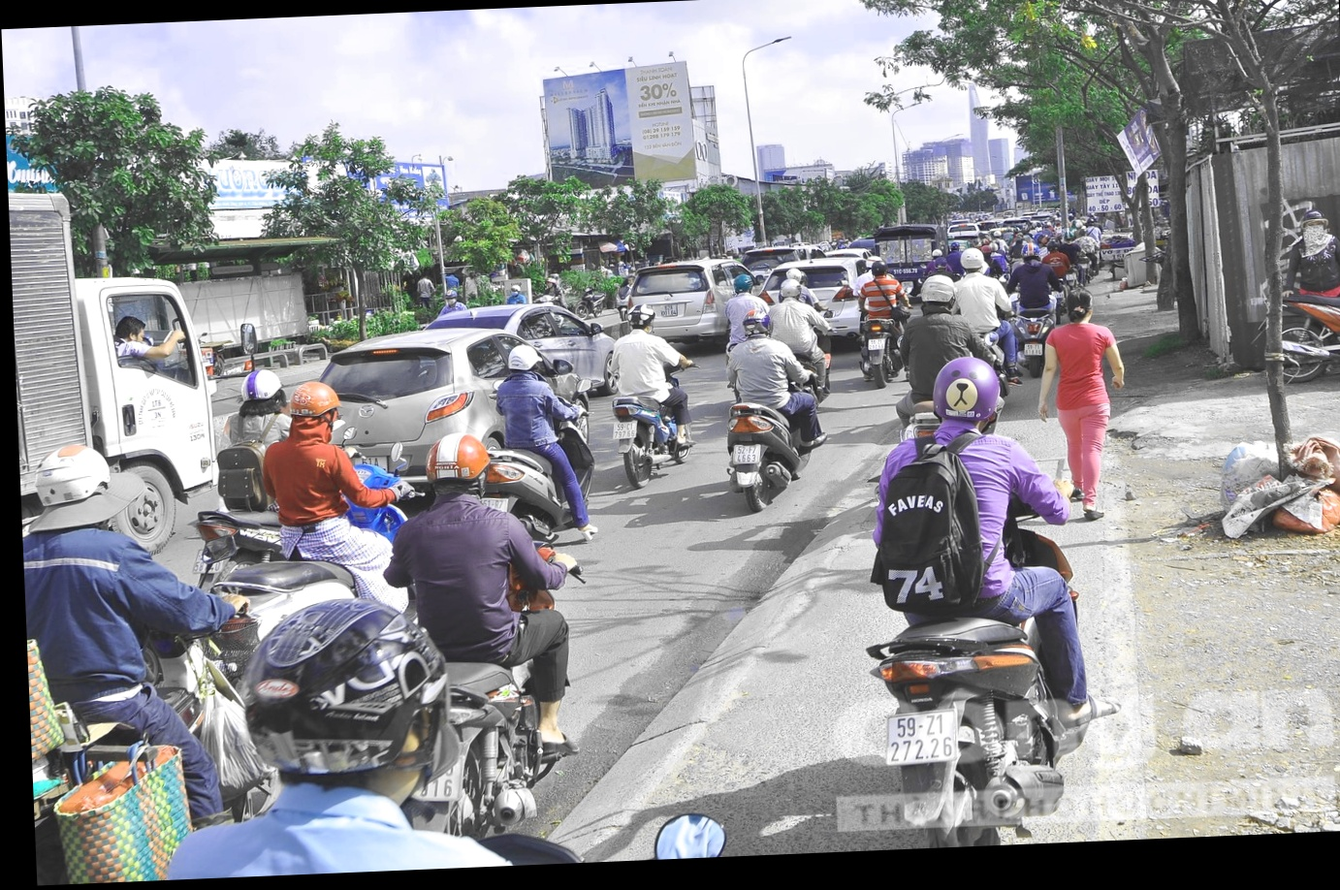Bien-so: (808, 737, 884, 798), (334, 721, 393, 769), (692, 450, 724, 475), (442, 470, 471, 491), (580, 414, 607, 436), (841, 362, 862, 378), (997, 388, 1017, 404)
